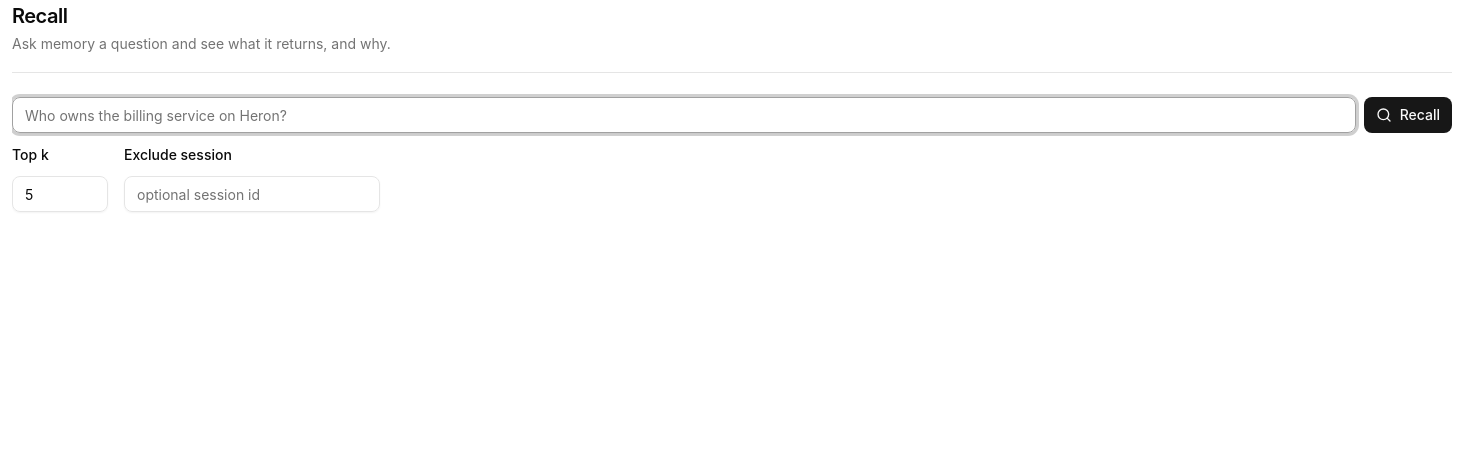
Test: RecallPage › runs a full-detail recall and renders the evidence with its role and sources
Type "who owns billing?" into the field named "Query" at [684, 115], box x1=12 y1=97 x2=1356 y2=133
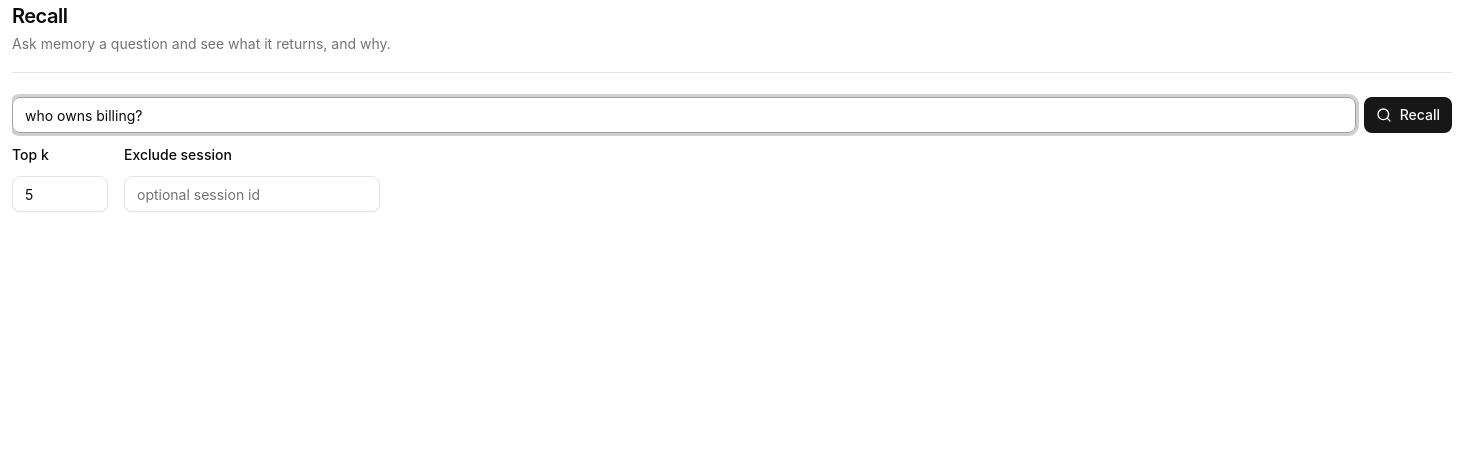
Click the button "Recall" at [1408, 115], box x1=1364 y1=97 x2=1452 y2=133
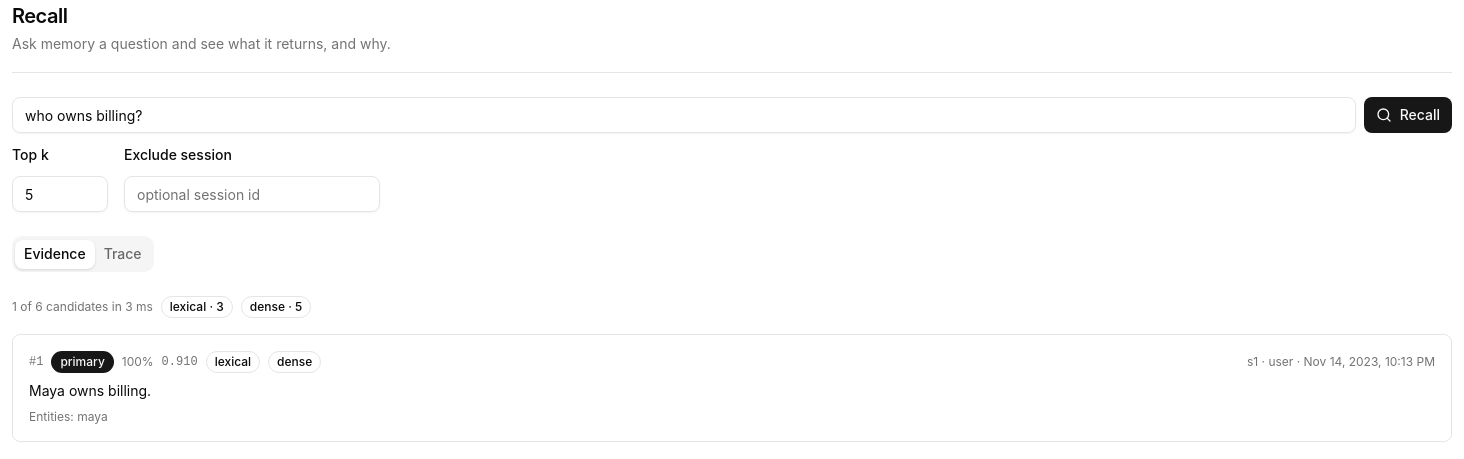
Check: the text "Maya owns billing." is shown, box x1=29 y1=382 x2=151 y2=399
Check: the text "primary" is shown, box x1=51 y1=351 x2=114 y2=373
Check: the text "lexical · 3" is shown, box x1=161 y1=296 x2=233 y2=318
